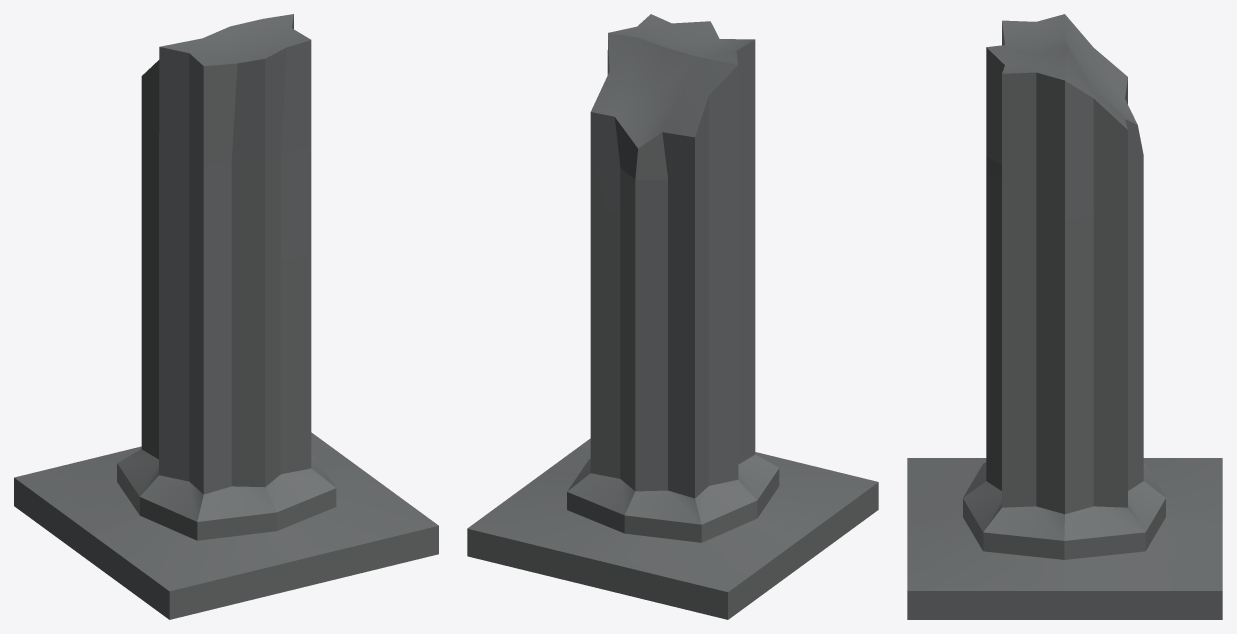
Rendered from PillarBroken3.fbx.
3 renders of one model, left to right at view 1: azimuth 30°, elevation 25°; view 2: azimuth 150°, elevation 25°; view 3: azimuth 270°, elevation 25°, orthographic. The views are drawn at different scales.
Parts seen in each view (by area): view 1: M. Pillar 1; view 2: M. Pillar 1; view 3: M. Pillar 1.
Part boxes in pixels (x1,y1,x2,y2): M. Pillar 1: (14,14,438,619); M. Pillar 1: (467,14,878,619); M. Pillar 1: (907,14,1222,619).
Size of the model in its own units: 358 by 638 by 358.
